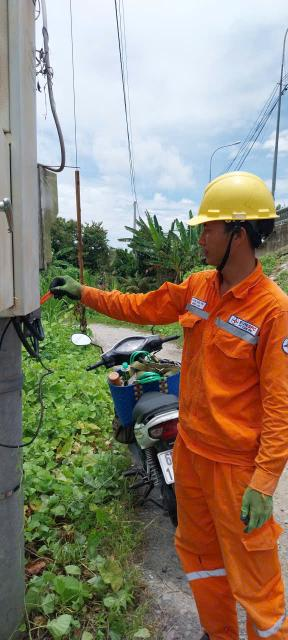gloves: (228, 479, 280, 538), (37, 268, 91, 312)
helmet: (155, 167, 288, 248)
